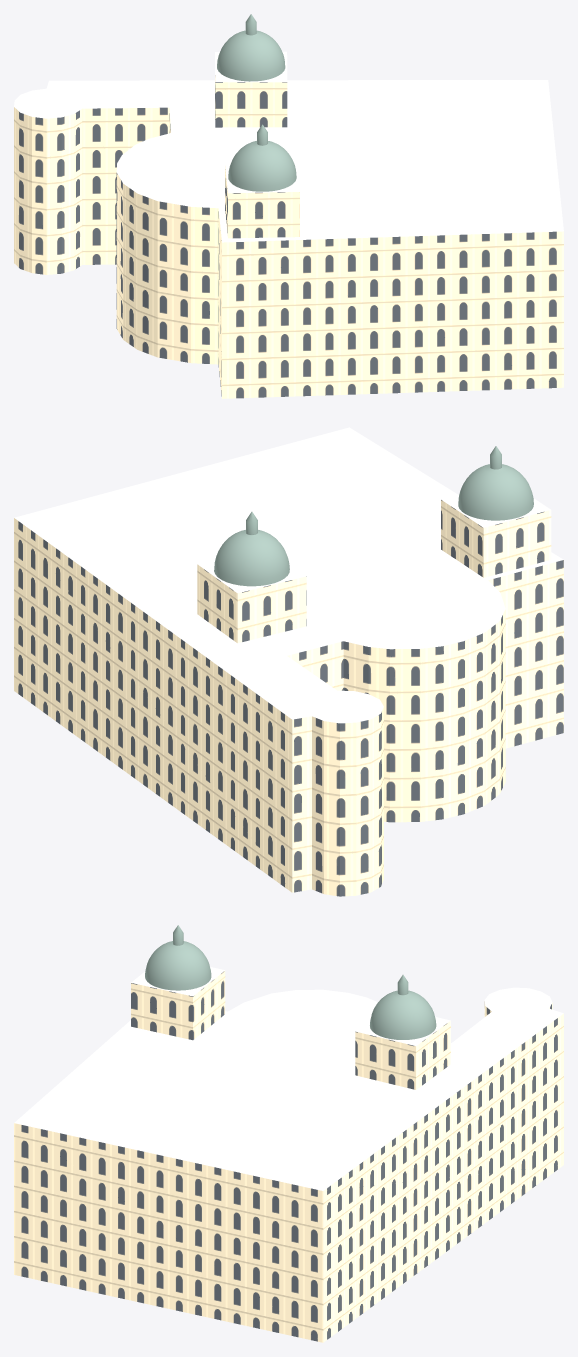
File: landmark-philharmonic-hall.glb
The picture shows the model from 3 angles, top to bottom: view 1: azimuth 30°, elevation 25°; view 2: azimuth 150°, elevation 25°; view 3: azimuth 270°, elevation 25°; orthographic projection. The views are drawn at different scales.
Parts seen in each view (by area): view 1: philharmonic-hall; view 2: philharmonic-hall; view 3: philharmonic-hall.
Boxes of the visible parts, <box> form: philharmonic-hall: <box>14,14,563,398</box>; philharmonic-hall: <box>14,427,563,896</box>; philharmonic-hall: <box>14,925,563,1342</box>.
Bounding box in the file's own units: 79.73 × 45.09 × 91.06.
Materials: 3 (1 with a texture image).
